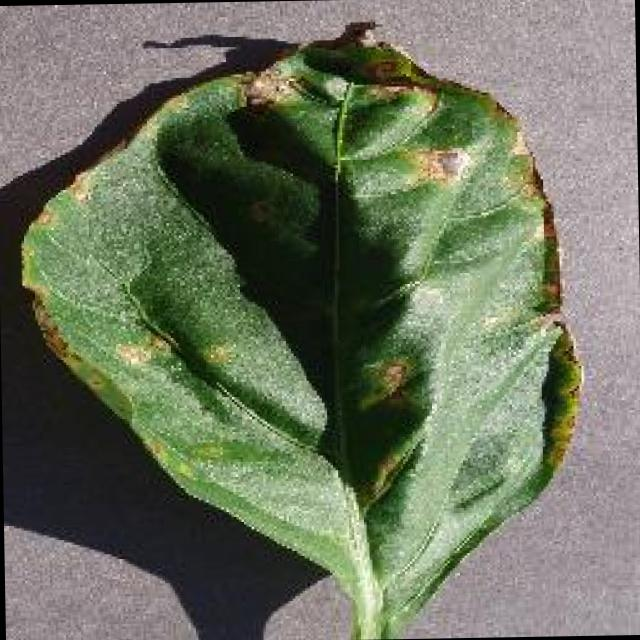Chilli_Bacterial_Spot: (9, 16, 590, 640), (353, 351, 417, 415), (236, 63, 304, 117), (400, 140, 476, 188), (110, 327, 171, 371), (371, 358, 409, 402), (62, 166, 98, 207), (195, 337, 236, 372), (240, 193, 276, 229)
